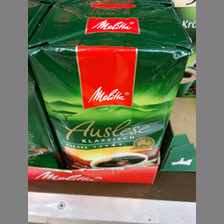coffee: (28, 5, 190, 167)
